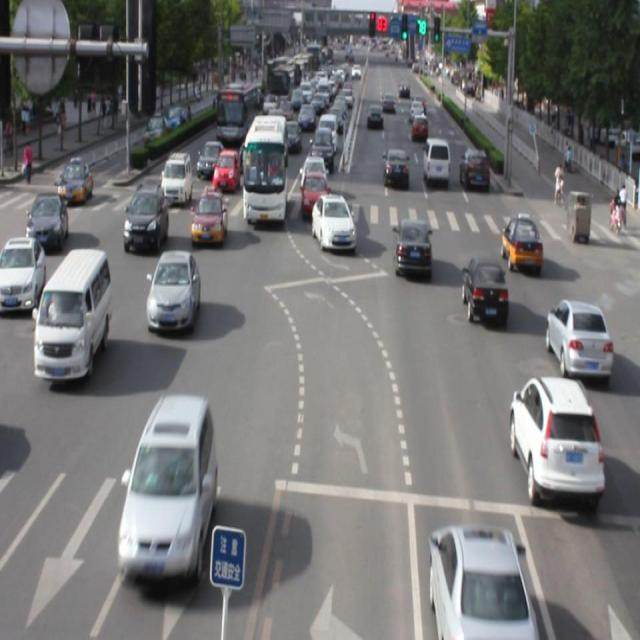car: (118, 393, 215, 576), (429, 522, 530, 640), (512, 378, 601, 501), (546, 297, 611, 376), (146, 252, 199, 330), (124, 180, 169, 256), (461, 255, 506, 323), (311, 196, 355, 253), (501, 215, 542, 271), (393, 218, 430, 276), (191, 190, 225, 244)
truck: (34, 246, 110, 380)
van: (243, 114, 287, 228)
